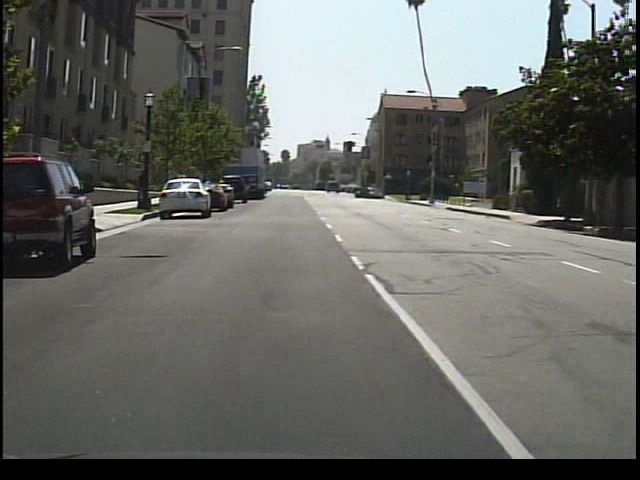person: (137, 167, 143, 202)
